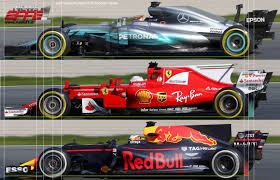f1_car: (1, 59, 280, 121), (2, 1, 279, 60), (2, 120, 273, 180)
